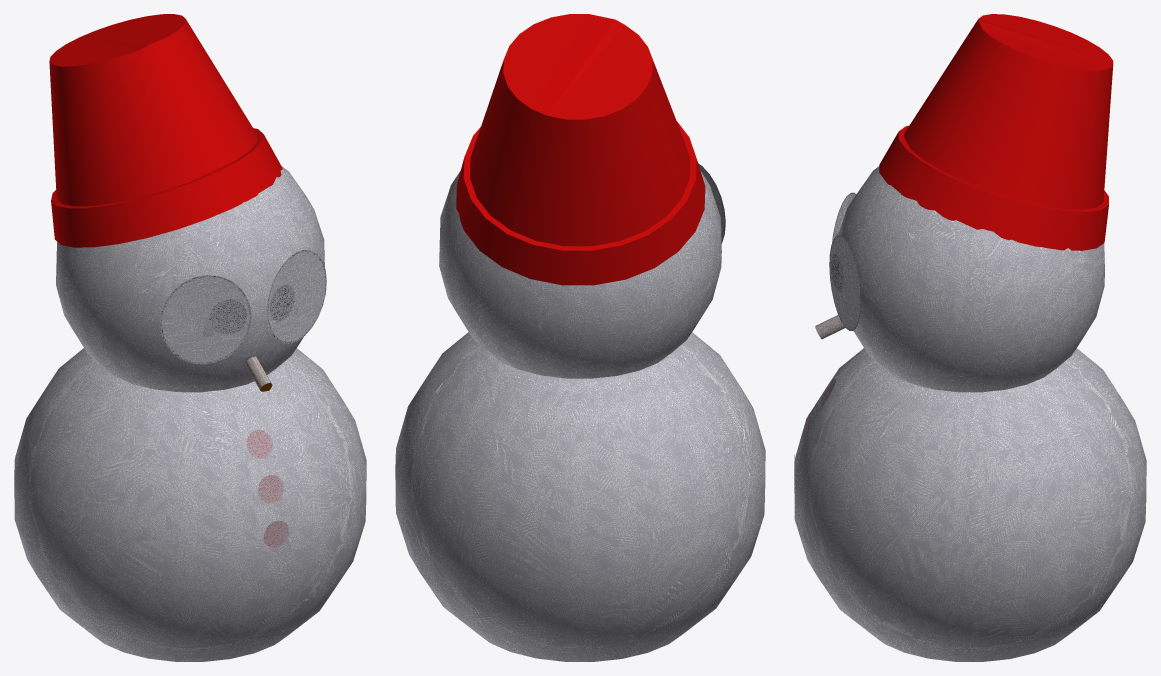
The model's file is 눈사람.dae.
3 views of the same model, side by side, from view 1: azimuth 30°, elevation 25°; view 2: azimuth 150°, elevation 25°; view 3: azimuth 270°, elevation 25° (orthographic). The views are drawn at different scales.
Visible parts, largest first — view 1: group_1 (×4), group_0, group_3 (×3), group_2 (×2); view 2: group_1, group_0; view 3: group_1, group_0, group_2.
Boxes of the visible parts, x1,y1,x2,y2 form: group_1 (×4): [14, 166, 366, 661]; group_0: [49, 14, 282, 247]; group_3 (×3): [160, 275, 251, 364]; group_2 (×2): [268, 252, 325, 341]; group_1: [395, 170, 765, 661]; group_0: [456, 14, 705, 285]; group_1: [794, 166, 1146, 661]; group_0: [879, 14, 1113, 250]; group_2: [830, 237, 860, 328].
Size of the model in its own units: 69.77 by 69.77 by 127.
